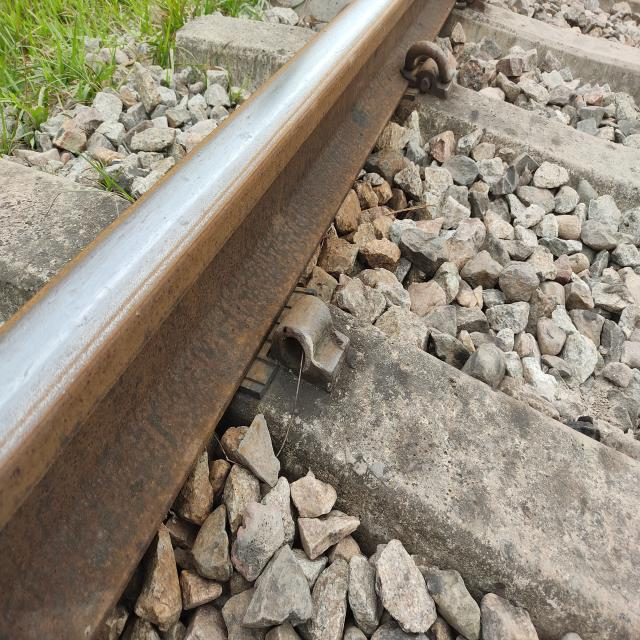Faults: (275, 292, 355, 390)
